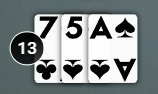5: (61, 13, 87, 43)
7: (33, 14, 61, 41)
a: (87, 14, 115, 43)
